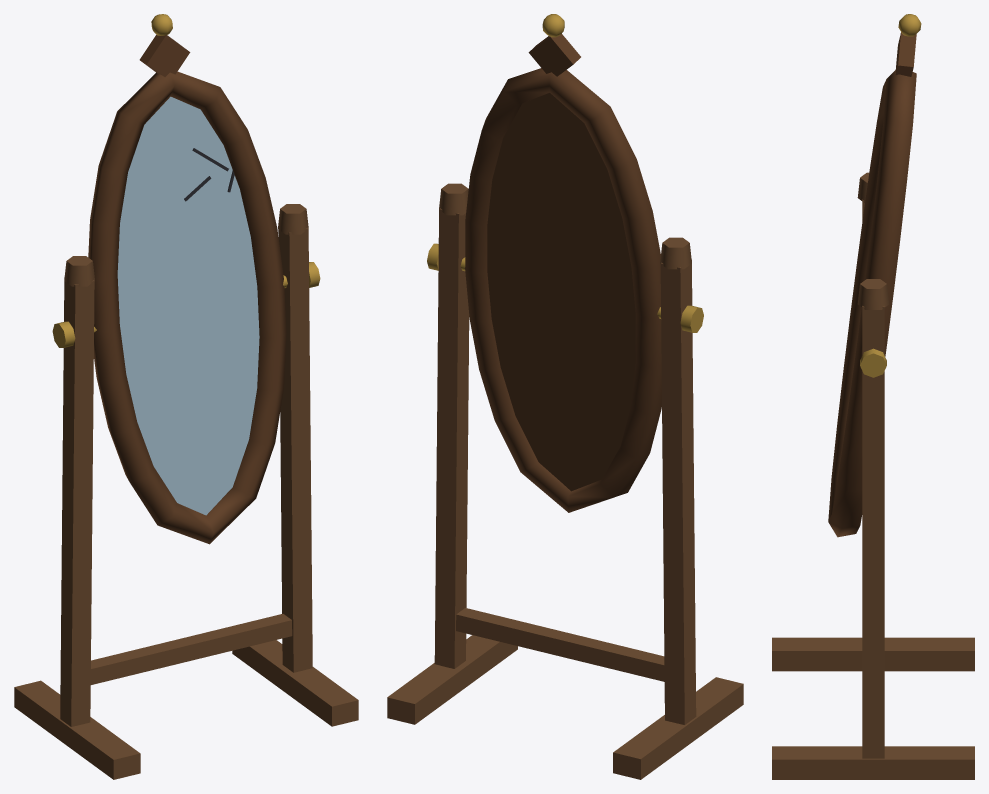
File: StaandeSpiegel.glb
3 views of the same model, side by side, from view 1: azimuth 30°, elevation 25°; view 2: azimuth 150°, elevation 25°; view 3: azimuth 270°, elevation 25° (orthographic). The views are drawn at different scales.
Visible parts, largest first — view 1: Glass, Stand, Frame, Pins; view 2: Frame, Stand, Pins; view 3: Stand, Frame, Pins, CrestKnob.
Boxes of the visible parts, x1,y1,x2,y2 form: Glass: (117,96,259,515); Stand: (14,204,358,779); Frame: (88,34,286,544); Pins: (52,262,320,347); Frame: (465,34,661,512); Stand: (387,183,743,779); Pins: (427,243,703,332); Stand: (772,172,974,779); Frame: (828,32,916,537); Pins: (860,348,886,377); CrestKnob: (898,14,921,36).
Bounding box in the file's own units: 0.665 × 1.72 × 0.45.
